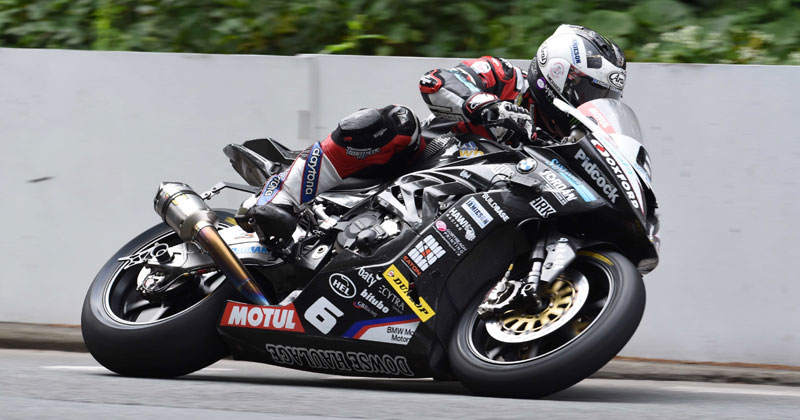helmet: (518, 19, 636, 123)
